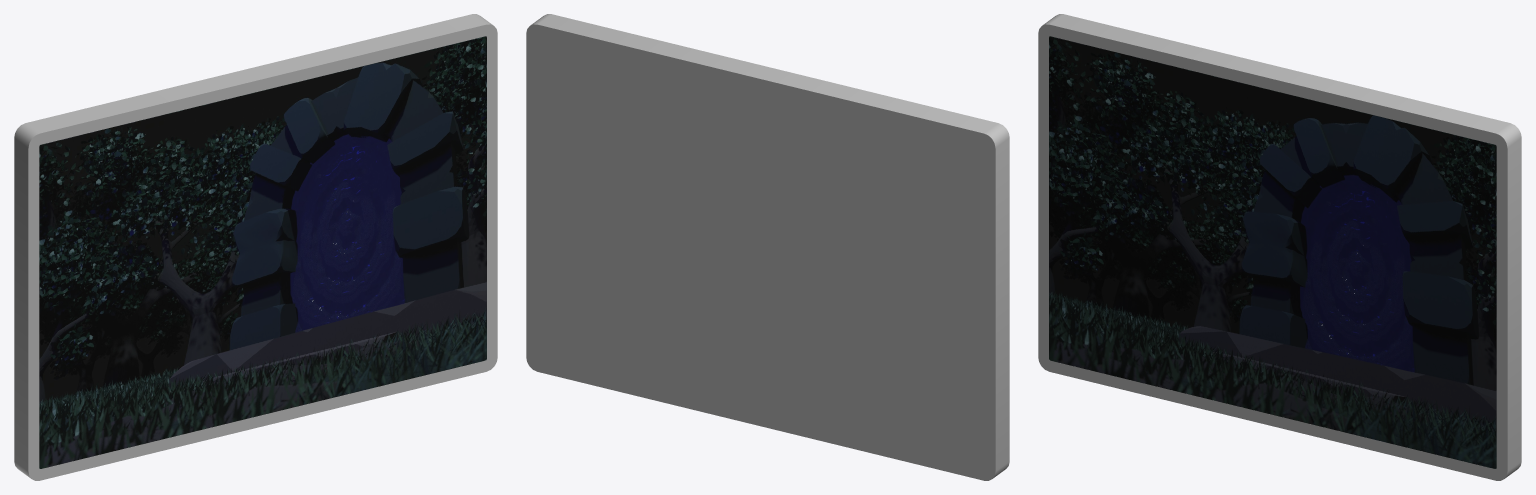
The model's file is tile1.glb.
3 views of the same model, side by side, from view 1: azimuth 30°, elevation 25°; view 2: azimuth 150°, elevation 25°; view 3: azimuth 330°, elevation 25° (orthographic).
Parts seen in each view (by area): view 1: tile1; view 2: tile1; view 3: tile1.
Boxes of the visible parts, left/top/right/bottom form: tile1: left=14, top=14, right=497, bottom=480; tile1: left=526, top=14, right=1009, bottom=480; tile1: left=1038, top=14, right=1521, bottom=480.
Size of the model in its own units: 2.97 by 2.1 by 0.1566.
2 materials, 1 textured.
